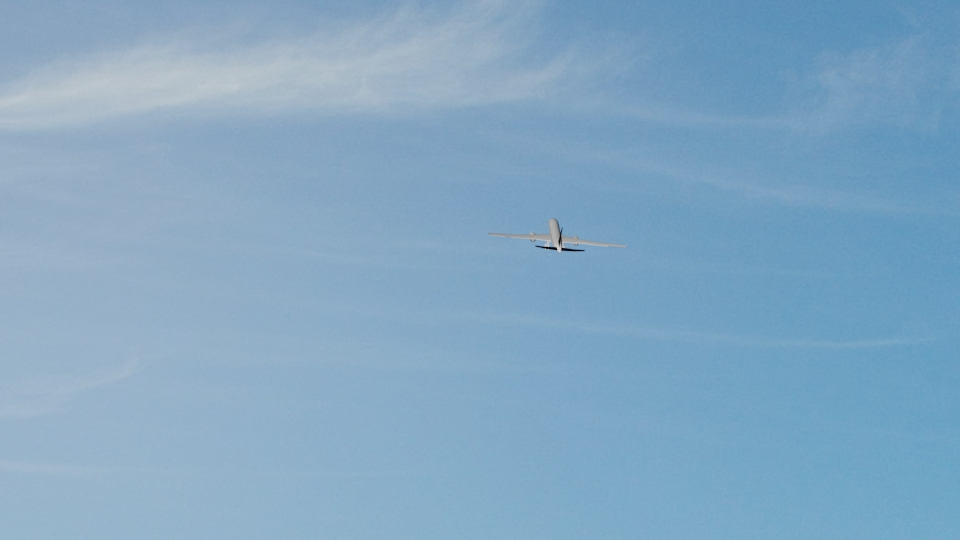plane: (489, 218, 625, 255)
